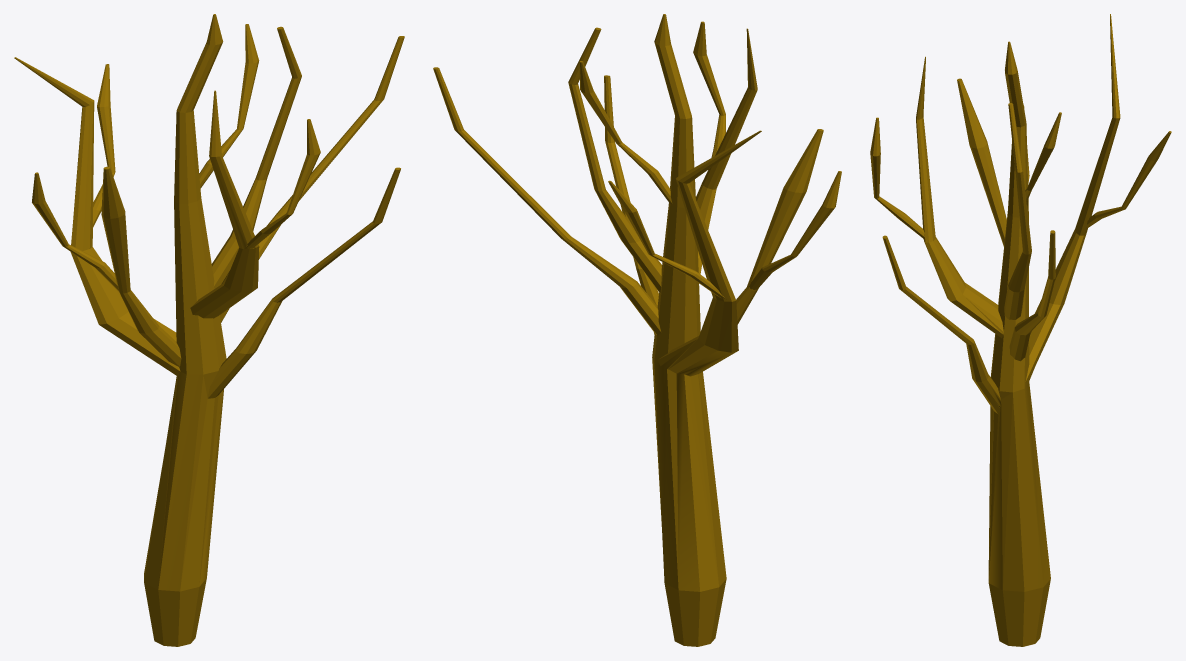
File: Vegetation_Modular_Tree_Trunk_Banyan_01.fbx
The picture shows the model from 3 angles, left to right: view 1: azimuth 30°, elevation 25°; view 2: azimuth 150°, elevation 25°; view 3: azimuth 270°, elevation 25°; orthographic projection.
Visible parts, largest first — view 1: Vegetation_Modular_Tree_Trunk_Banyan_01; view 2: Vegetation_Modular_Tree_Trunk_Banyan_01; view 3: Vegetation_Modular_Tree_Trunk_Banyan_01.
Part boxes in pixels (bbox=[...]): Vegetation_Modular_Tree_Trunk_Banyan_01: bbox=[14, 14, 404, 646]; Vegetation_Modular_Tree_Trunk_Banyan_01: bbox=[433, 14, 841, 646]; Vegetation_Modular_Tree_Trunk_Banyan_01: bbox=[870, 14, 1171, 646].
Size of the model in its own units: 119 by 180 by 80.05.
